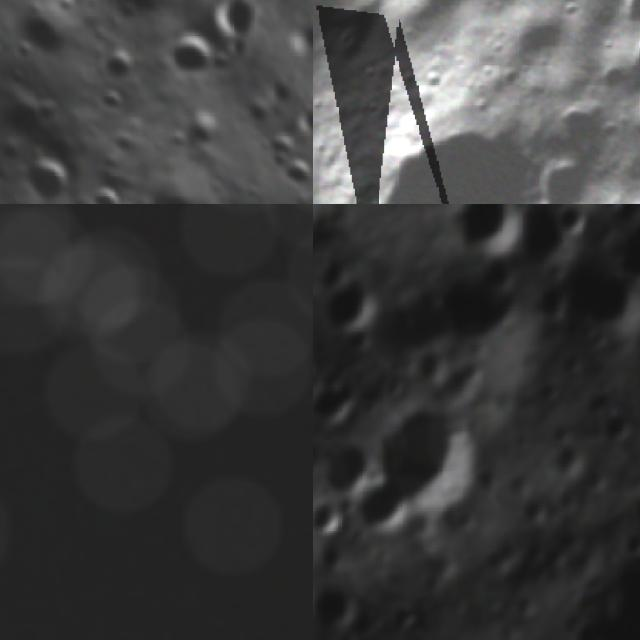crater: (364, 379, 498, 521), (351, 262, 474, 382), (430, 257, 540, 363), (552, 259, 640, 356), (148, 8, 234, 94), (316, 266, 391, 357), (437, 204, 526, 271), (500, 204, 580, 276), (3, 0, 83, 69), (10, 135, 90, 204), (342, 472, 418, 542), (313, 428, 384, 502), (587, 204, 640, 295), (313, 567, 373, 640), (427, 348, 493, 409), (313, 369, 364, 435), (392, 498, 446, 552), (543, 434, 596, 486), (98, 36, 150, 88), (272, 142, 313, 199), (313, 490, 354, 544), (510, 485, 557, 532), (313, 204, 354, 248), (1, 30, 42, 71), (598, 409, 640, 449), (551, 204, 593, 243), (80, 177, 133, 204), (567, 612, 612, 640), (557, 347, 591, 384), (611, 519, 640, 562), (622, 483, 640, 534), (614, 0, 640, 31), (313, 345, 324, 391)
